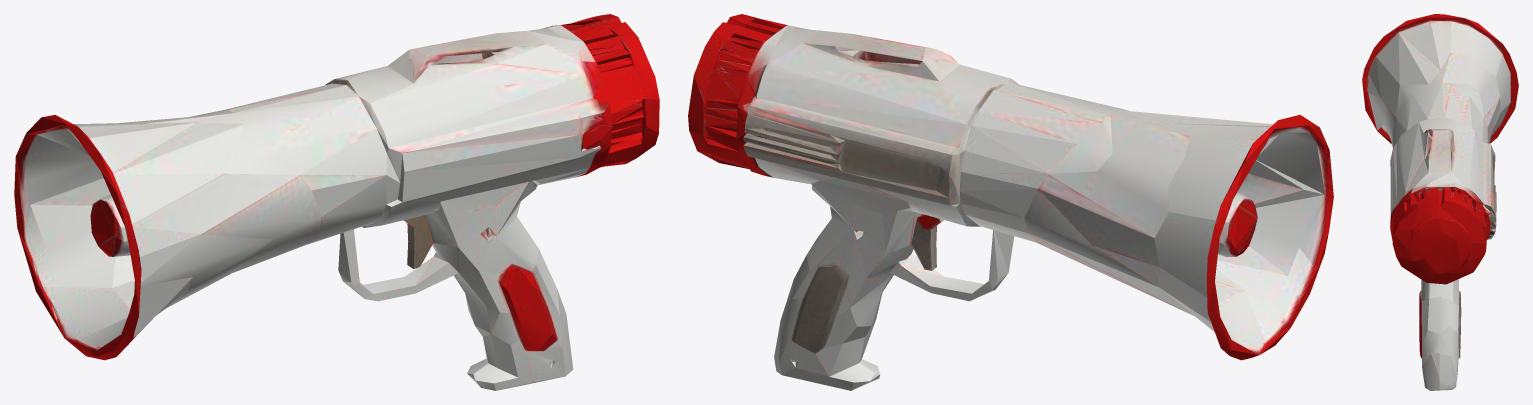
File: megaphone.glb
3 renders of one model, left to right at view 1: azimuth 30°, elevation 25°; view 2: azimuth 150°, elevation 25°; view 3: azimuth 270°, elevation 25°, orthographic. The views are drawn at different scales.
Size of the model in its own units: 1.9 by 1.15 by 0.7221.
1 material, 1 textured.
